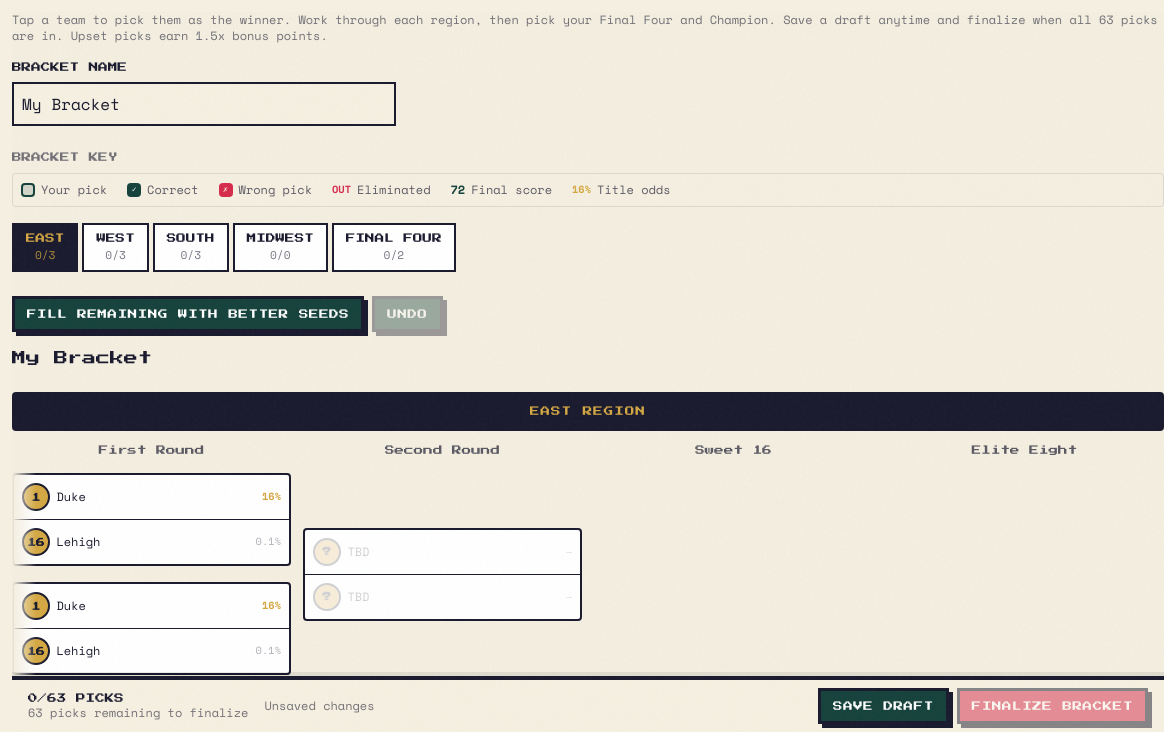
it: BracketBuilder › shows success message on draft save
This screenshot has width=1164, height=732.
Click the button "Save Draft": (884, 706) [818,688,949,724]
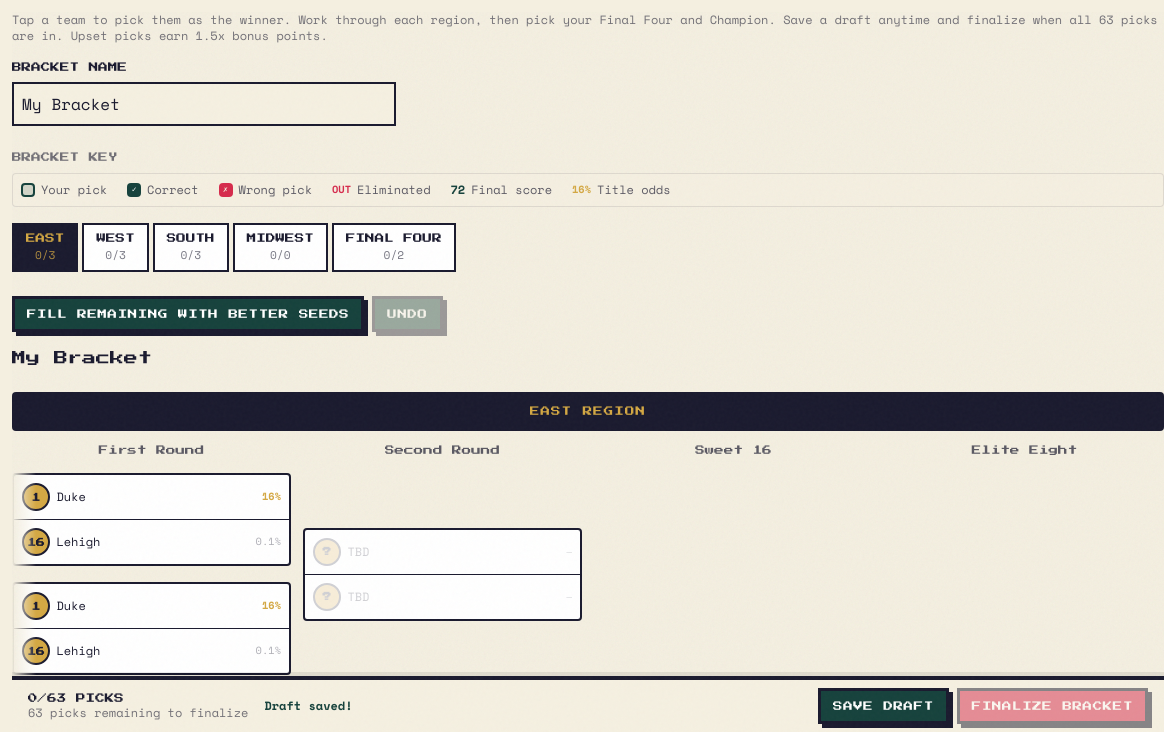
Now the text "Draft saved!" is shown, box [264,697,352,714]
